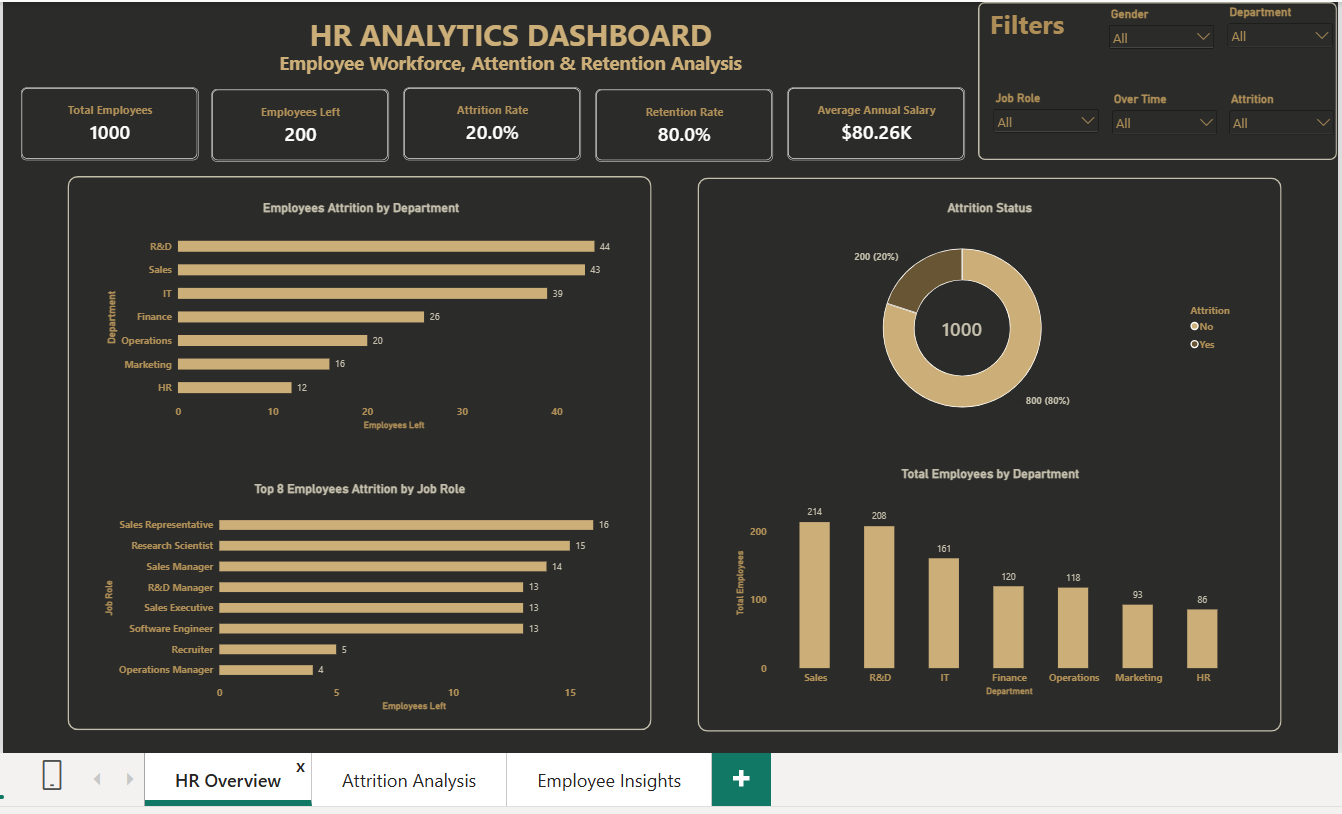

This screenshot's page, from the dashboard's own definition file:
{"tool":"powerbi","page":{"name":"HR Overview","canvas":[1920,1080],"ordinal":0},"visuals":[{"type":"shape","box":[999.5,253.4,840,797],"z":0},{"type":"shape","box":[92.4,251.1,840,797],"z":1000},{"type":"shape","box":[1402.1,0,516.3,227.4],"z":2000},{"type":"cardVisual","fields":{"Data":["HR Measures.Total Employees"]},"box":[26,124,255,104.5],"z":3000},{"type":"cardVisual","fields":{"Data":["HR Measures.Attrition Rate"]},"box":[575.5,124,255,104.5],"z":4000},{"type":"cardVisual","fields":{"Data":["HR Measures.Retention Rate"]},"box":[852.6,125.5,255,104.5],"z":5000},{"type":"cardVisual","fields":{"Data":["HR Measures.Average Annual Salary"]},"box":[1127.4,123.2,255,104.5],"z":6000},{"type":"cardVisual","fields":{"Data":["HR Measures.Employees Left"]},"box":[300.8,125.5,255,104.5],"z":7000},{"type":"slicer","fields":{"Values":["Employee_Data.Gender"]},"box":[1584.5,7.1,161.1,95],"z":8000},{"type":"slicer","fields":{"Values":["Employee_Data.JobRole"]},"box":[1418.7,127.5,161.1,95],"z":9000},{"type":"slicer","fields":{"Values":["Employee_Data.Attrition"]},"box":[1757.4,130.4,161.1,95],"z":10000},{"type":"slicer","fields":{"Values":["Employee_Data.OverTime"]},"box":[1589.2,130.4,161.1,95],"z":11000},{"type":"slicer","fields":{"Values":["Employee_Data.Department"]},"box":[1755,4.7,161.1,95],"z":12000},{"type":"textbox","box":[156.7,6.8,1144.7,102.2],"z":13000},{"type":"textbox","box":[1418.7,7.1,142.1,68.7],"z":14000},{"type":"clusteredBarChart","title":"Employees  Attrition by Department","fields":{"Category":["Employee_Data.Department"],"Y":["HR Measures.Employees Left"]},"box":[132.6,272.4,767,360],"z":15000},{"type":"barChart","title":"Top 8 Employees Attrition by Job Role","fields":{"Category":["Employee_Data.Job Role"],"Y":["HR Measures.Employees Left"]},"box":[130.3,675,767.4,360],"z":16000},{"type":"donutChart","title":"Attrition Status","fields":{"Category":["Employee_Data.Attrition"],"Y":["HR Measures.Total Employees"]},"box":[1035,272.4,767,360],"z":17000},{"type":"columnChart","title":"Total Employees by Department","fields":{"Category":["Employee_Data.Department"],"Y":["HR Measures.Total Employees"]},"box":[1037.4,653.7,765,360],"z":18000}]}

Visuals, with their boxes on the page's 1920x1080 design canvas (x1, y1, x2, y2). These are canvas units, not pixel positions in the 1342x814 screenshot, which may show the page scaled, cropped or inside an application window:
shape: 1000, 253, 1840, 1050
shape: 92, 251, 932, 1048
shape: 1402, 0, 1918, 227
cardVisual - HR Measures.Total Employees: 26, 124, 281, 228
cardVisual - HR Measures.Attrition Rate: 576, 124, 830, 228
cardVisual - HR Measures.Retention Rate: 853, 126, 1108, 230
cardVisual - HR Measures.Average Annual Salary: 1127, 123, 1382, 228
cardVisual - HR Measures.Employees Left: 301, 126, 556, 230
slicer - Employee_Data.Gender: 1584, 7, 1746, 102
slicer - Employee_Data.JobRole: 1419, 128, 1580, 222
slicer - Employee_Data.Attrition: 1757, 130, 1918, 225
slicer - Employee_Data.OverTime: 1589, 130, 1750, 225
slicer - Employee_Data.Department: 1755, 5, 1916, 100
textbox: 157, 7, 1301, 109
textbox: 1419, 7, 1561, 76
"Employees  Attrition by Department" clusteredBarChart: 133, 272, 900, 632
"Top 8 Employees Attrition by Job Role" barChart: 130, 675, 898, 1035
"Attrition Status" donutChart: 1035, 272, 1802, 632
"Total Employees by Department" columnChart: 1037, 654, 1802, 1014
